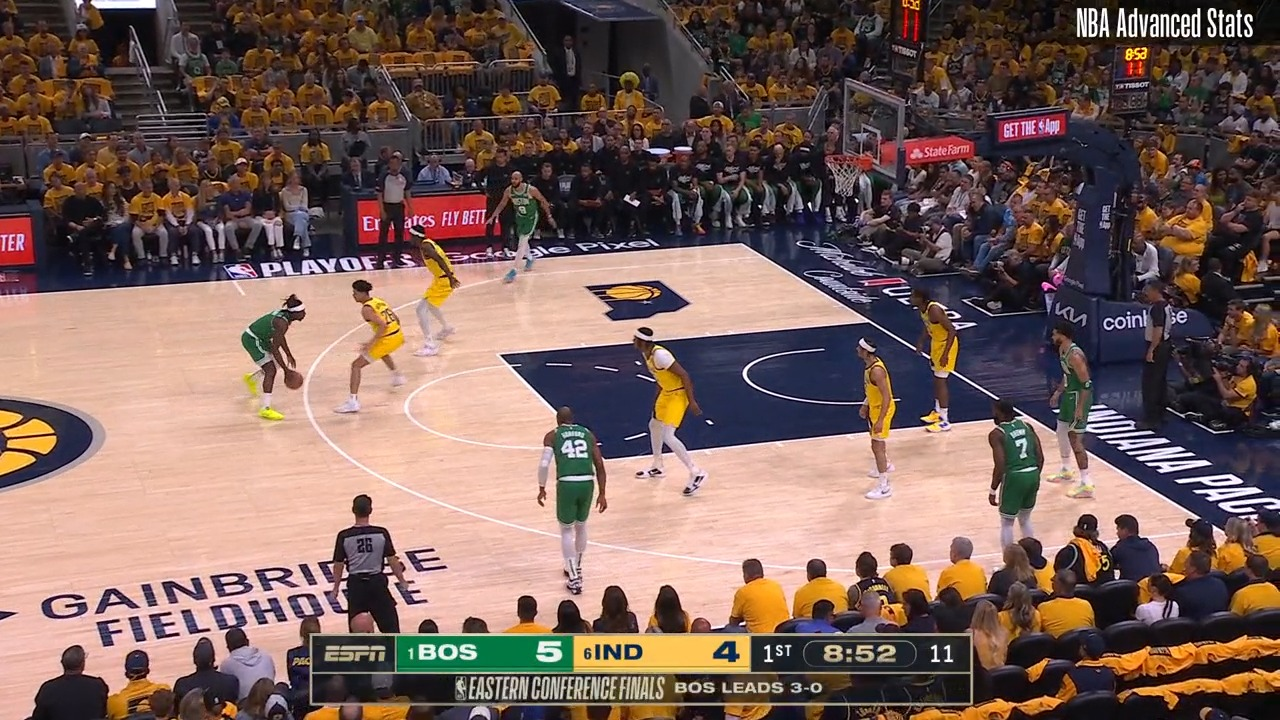basketball: (284, 367, 304, 392)
